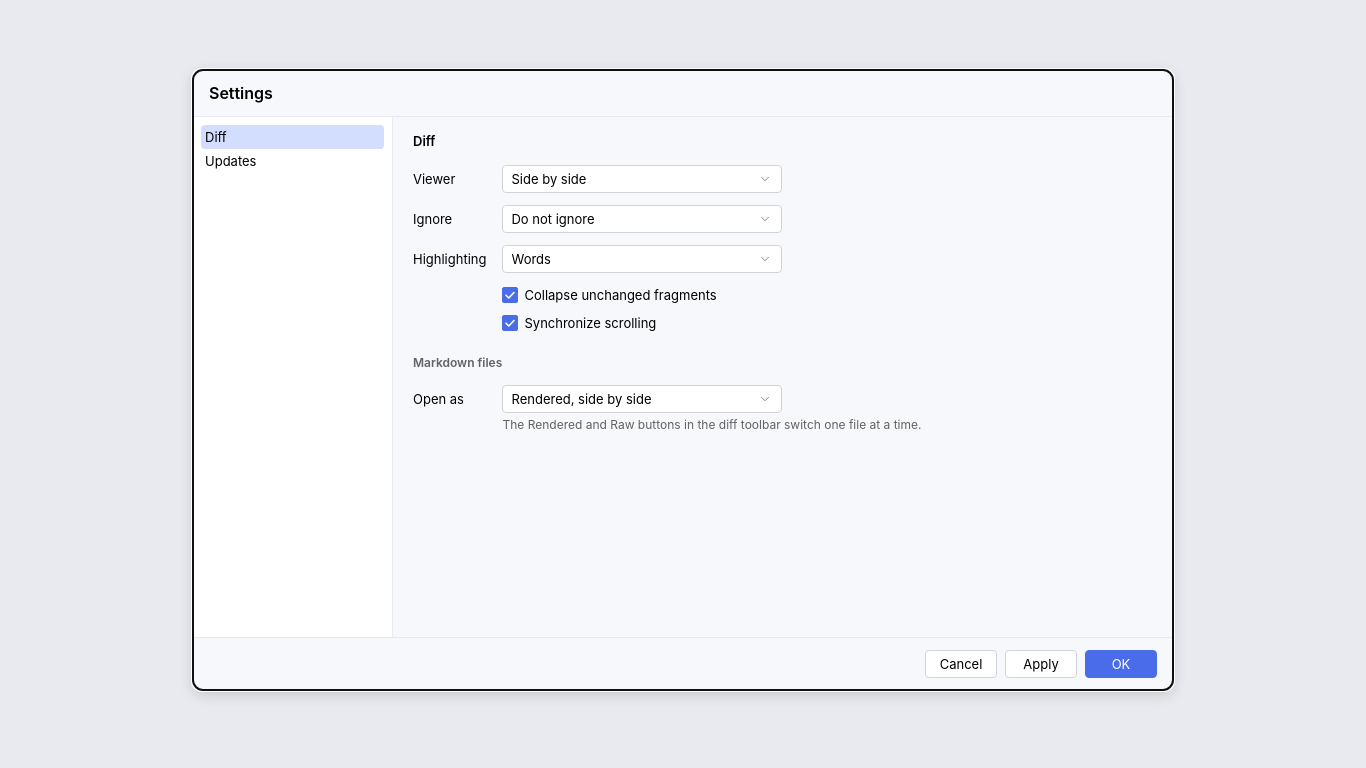
Test case: SettingsDialog › shows why saving failed and stays open
Step 1. Click the button "OK" → (1121, 664), box x1=1085 y1=650 x2=1157 y2=678
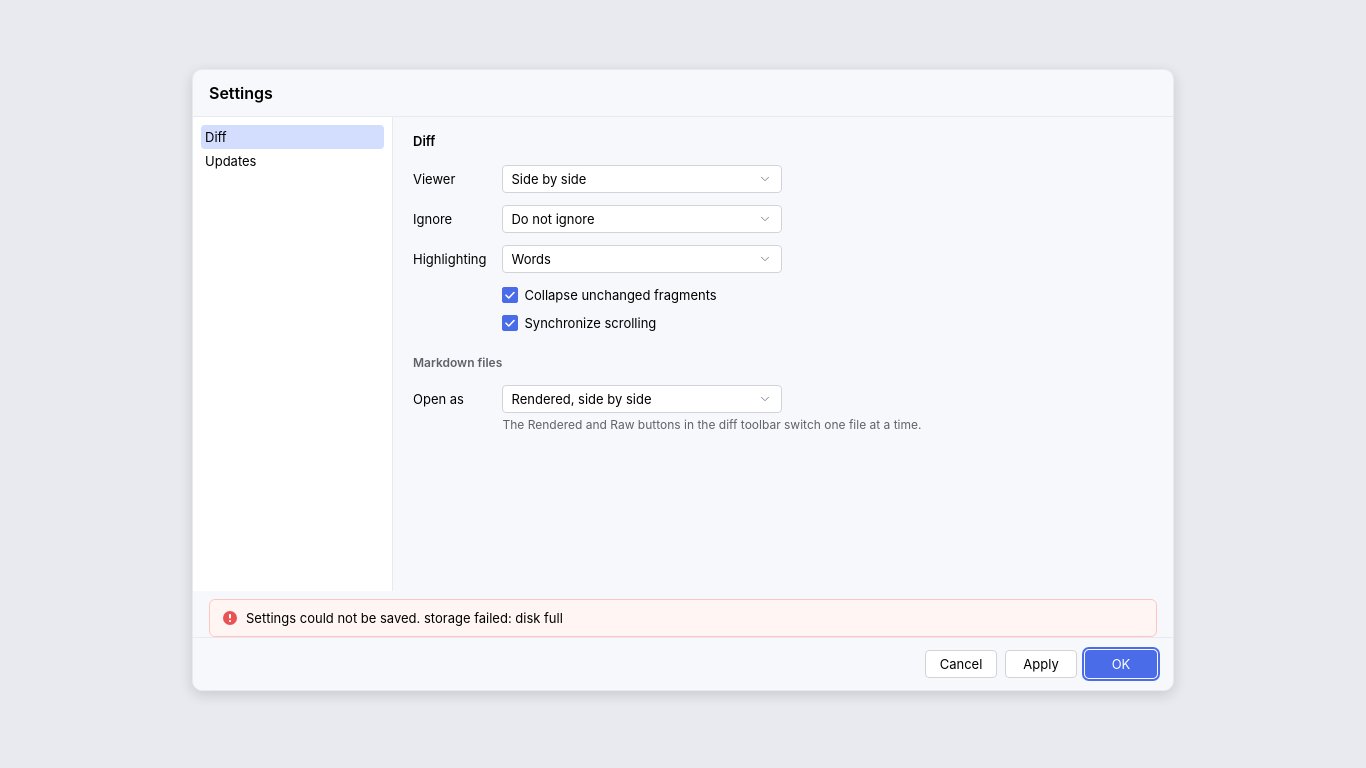
Expected: the message reads "Settings could not be saved. storage failed: disk full", x1=209 y1=599 x2=1157 y2=637
